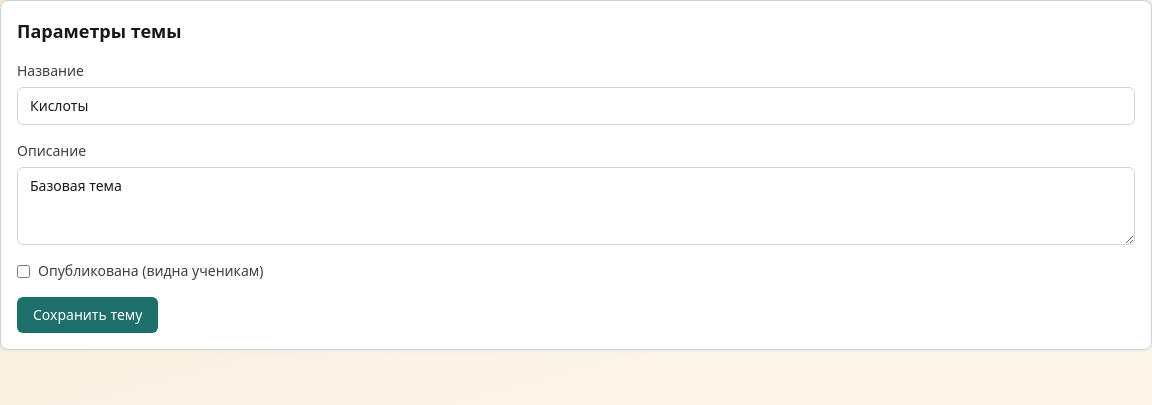
Test case: ThemeEditor › saves theme fields
Replace the text in the field labelled "Название" with "Кислоты и основания" at (576, 106), box [17,87,1135,125]
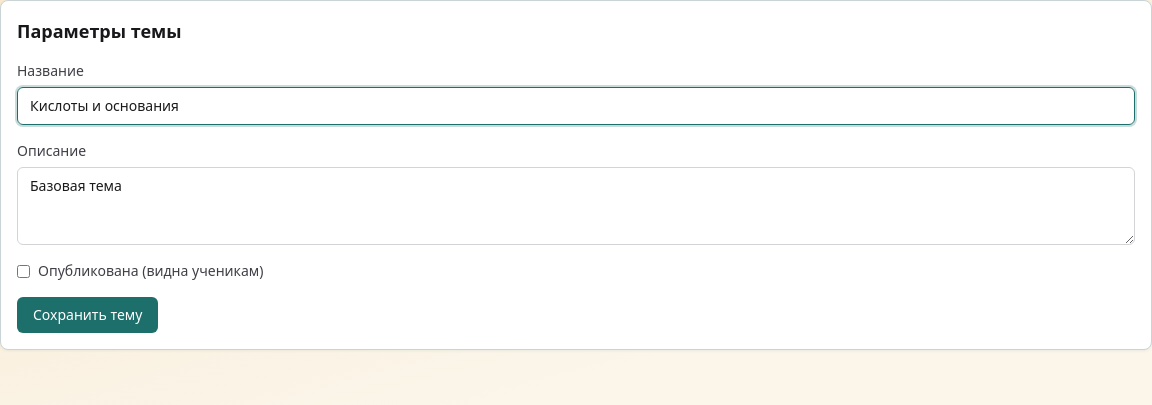
Click the checkbox labelled "Опубликована (видна ученикам)".
click(24, 271)  # box [17,264,30,278]
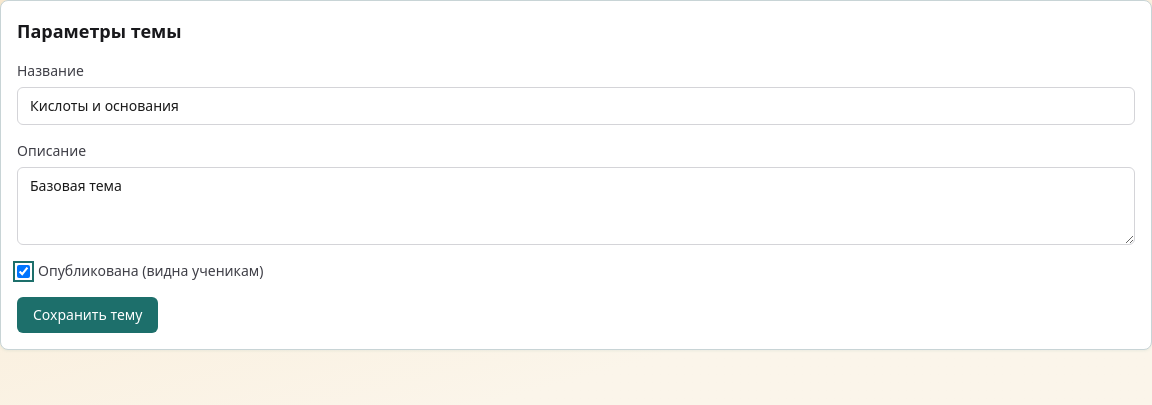
Click the button "Сохранить тему".
click(88, 315)  # box [17,297,158,333]
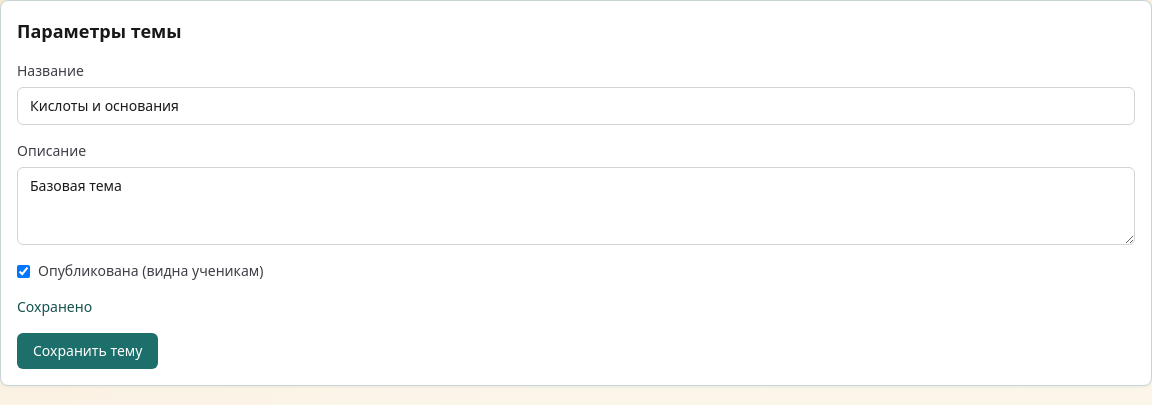
Expected: the message reads "Сохранено", [17,297,92,316]
